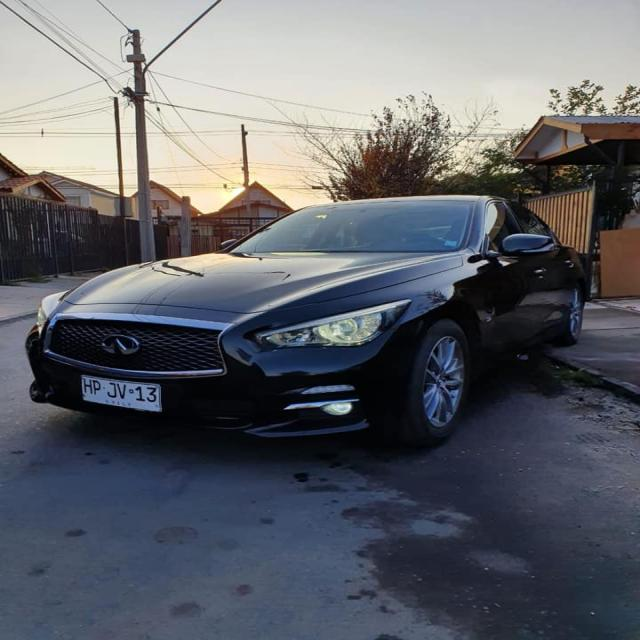patente: (78, 374, 163, 413)
